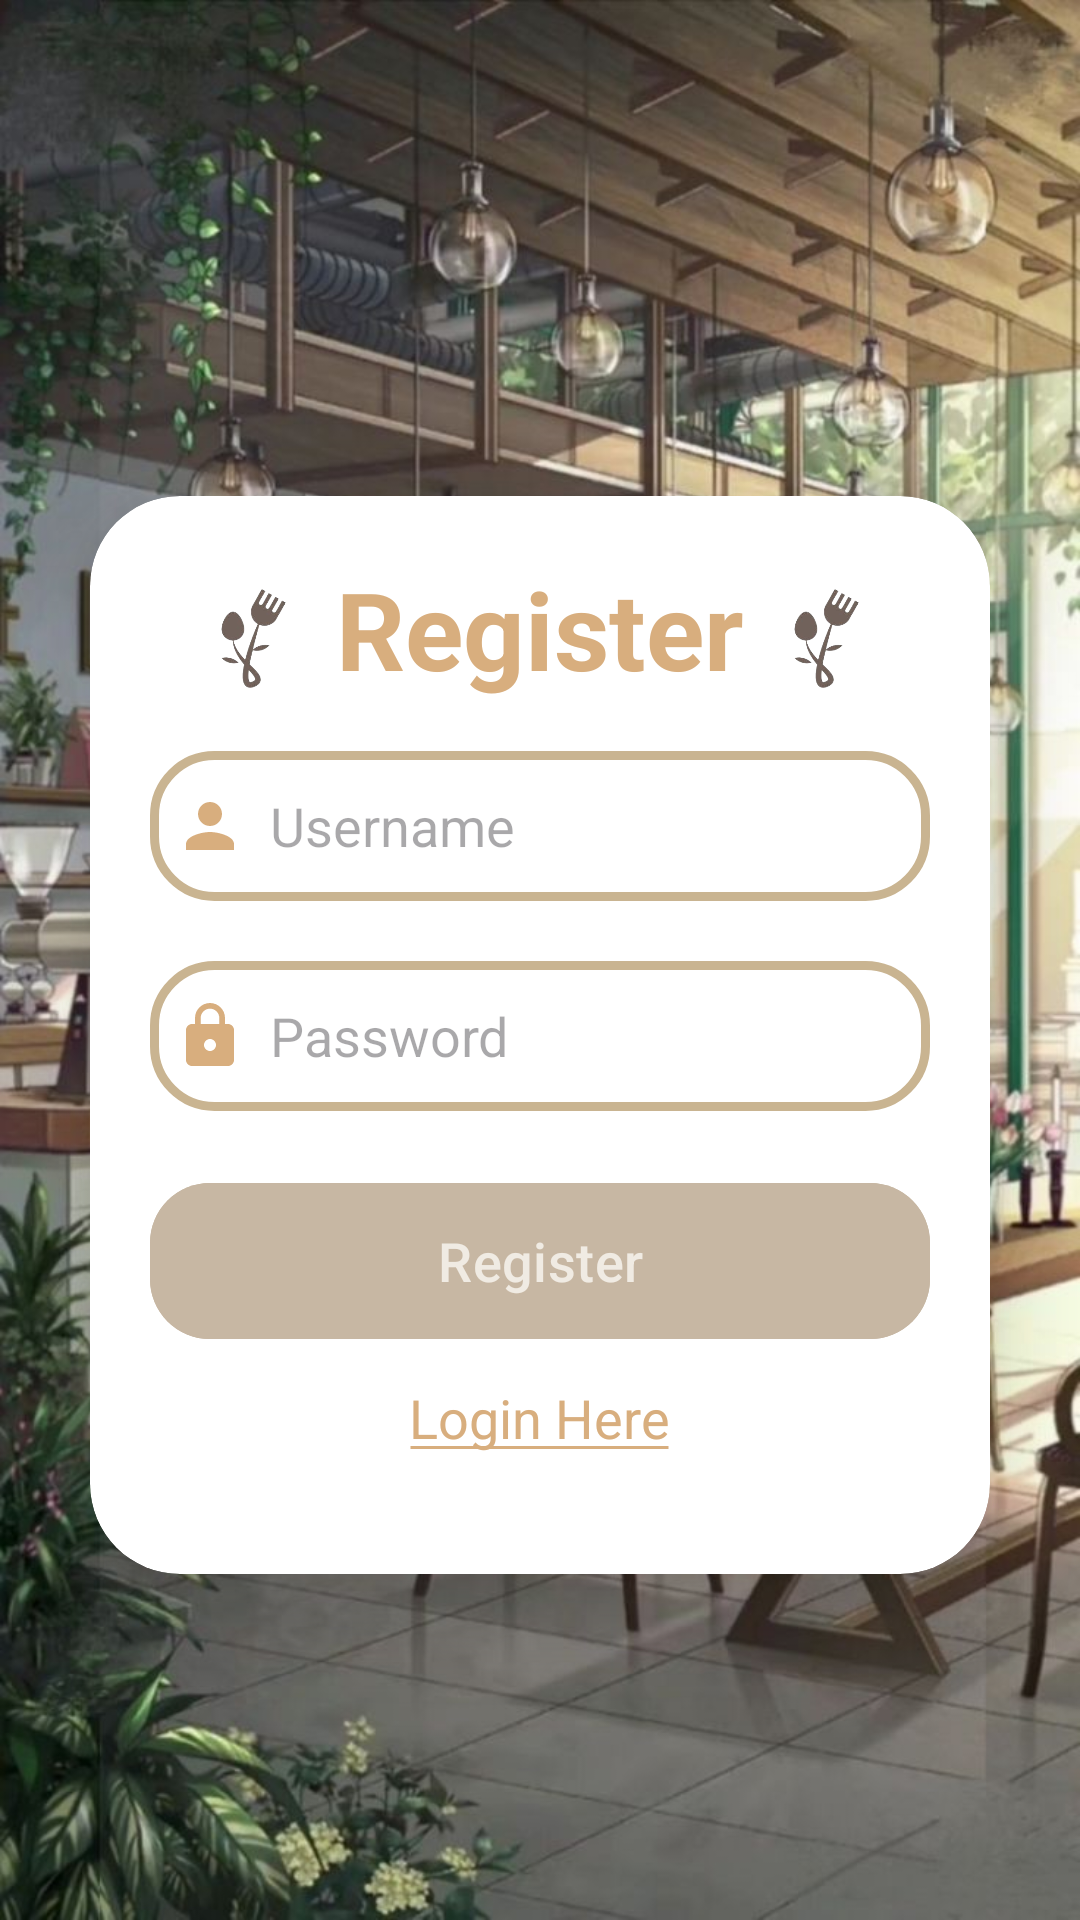

Point at icon controls on the screen. Image size 1080*1920, points as (x=x, y=y).
ayomakan: (x=253, y=638), (x=826, y=638)
